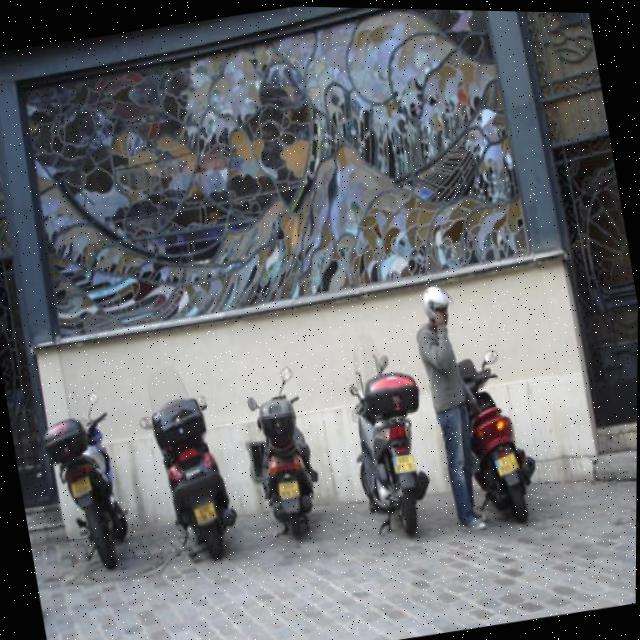motorcycle: (324, 325, 446, 548), (123, 353, 245, 575), (425, 332, 549, 539), (226, 357, 334, 548), (39, 386, 140, 576)
plate: (269, 468, 310, 518), (489, 447, 525, 480), (387, 447, 421, 481), (63, 471, 96, 504), (188, 497, 222, 529)
